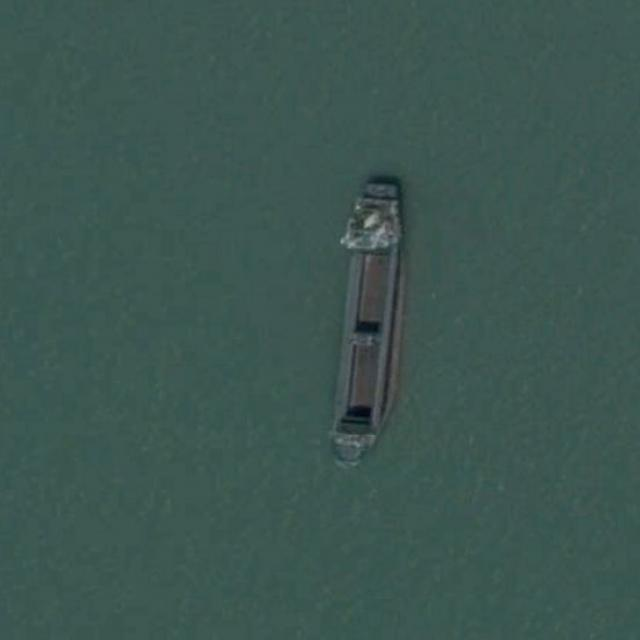ship: (324, 174, 408, 470)
